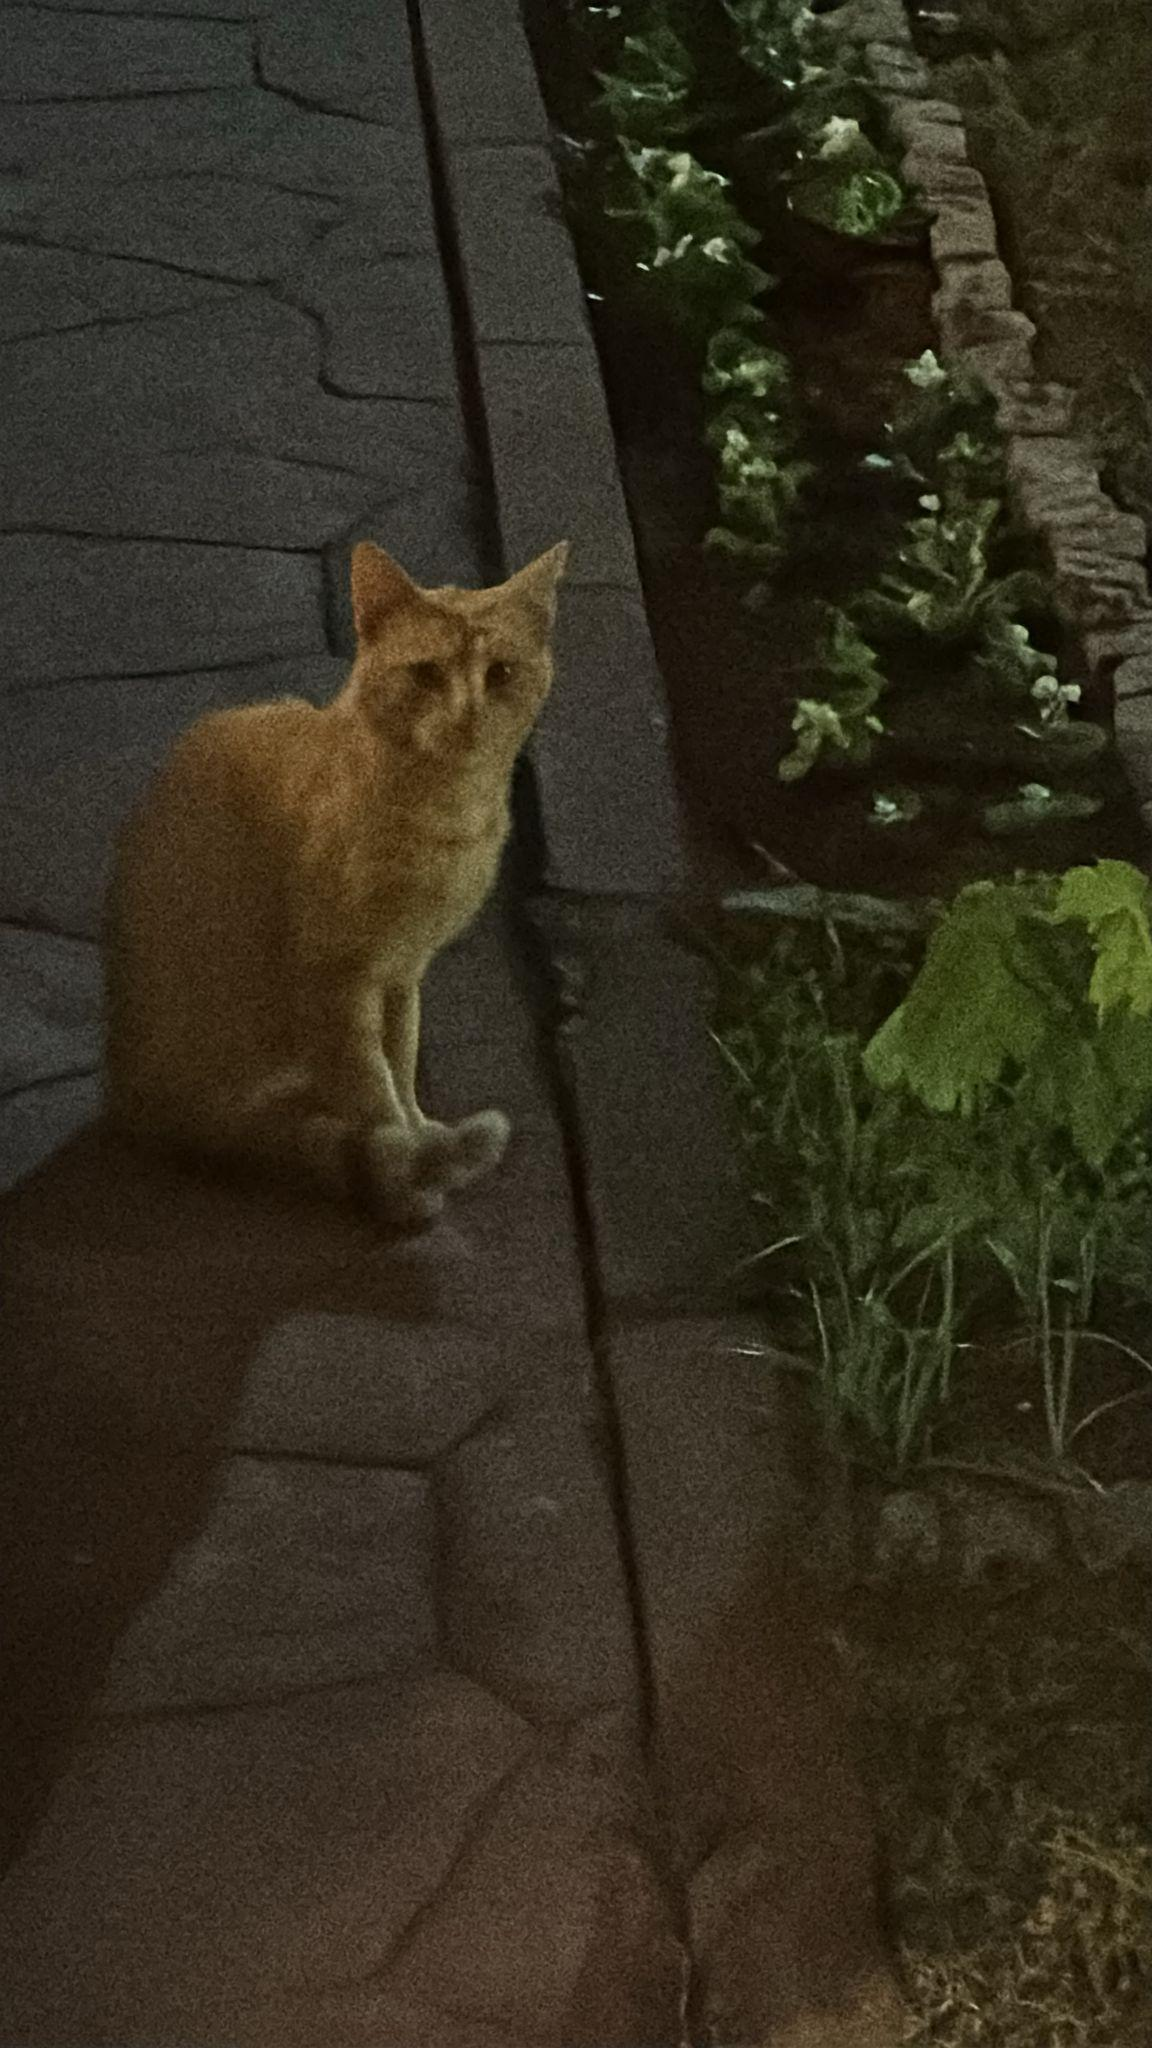kedo: (114, 540, 571, 1224)
